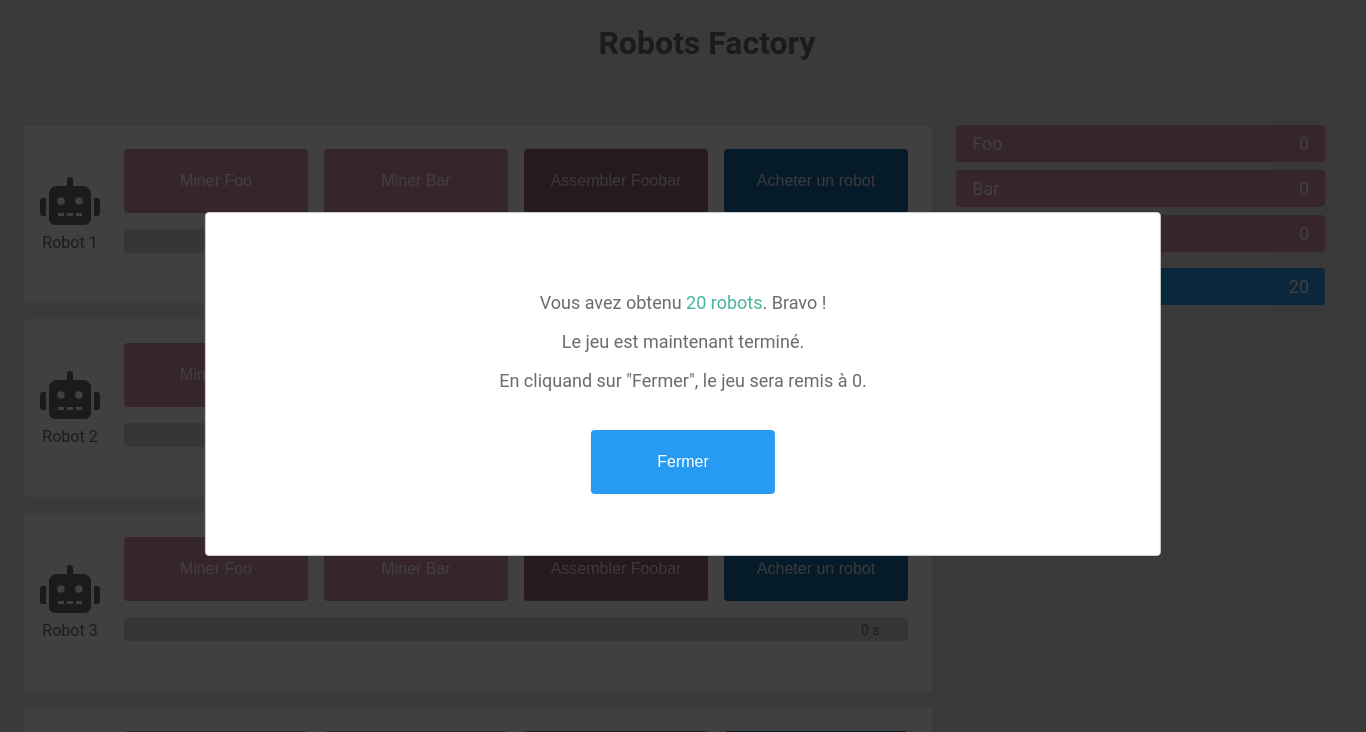
Home page › should reset context with its default value and close modal when modal button is clicked
This screenshot has width=1366, height=732.
What coordinates should you click on to do the following:
click the button "Fermer"
I would click on:
 (683, 462)
Its box is [591,430,775,494].
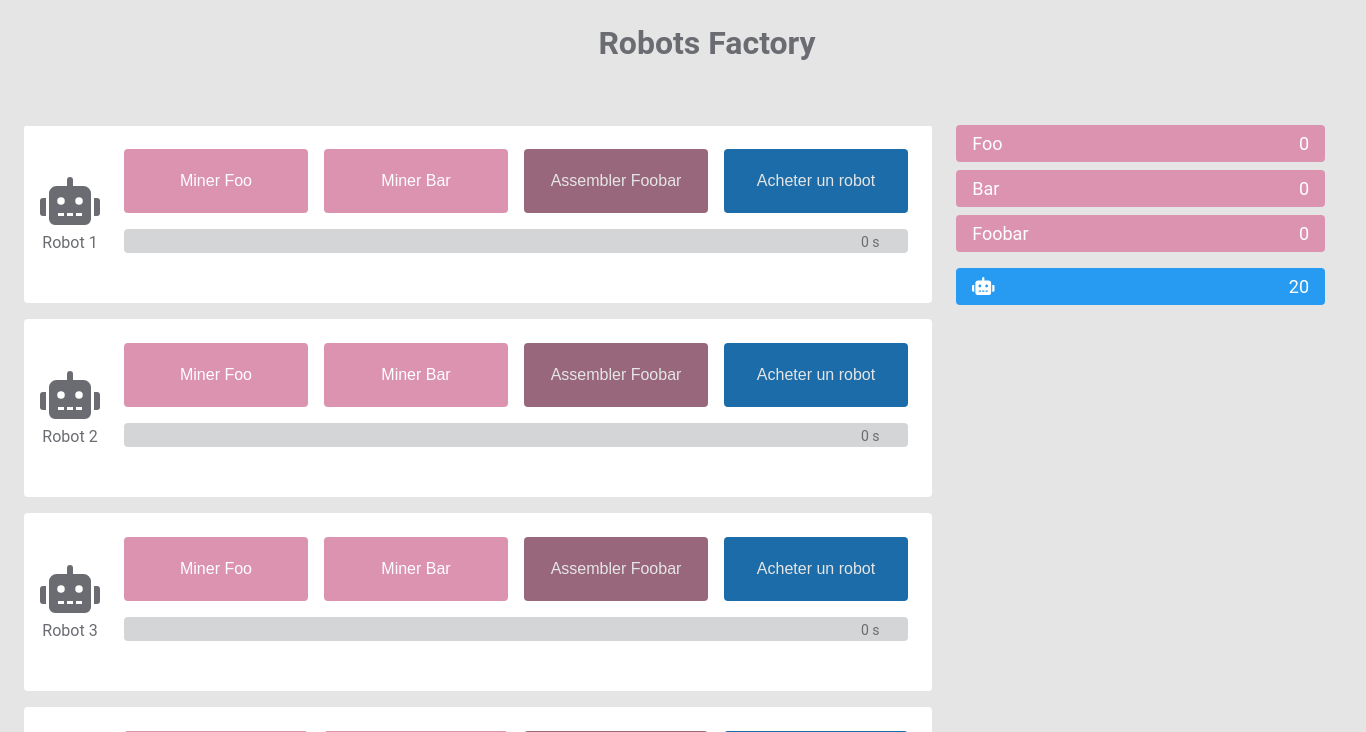
Expected: the text "Fermer" is gone
